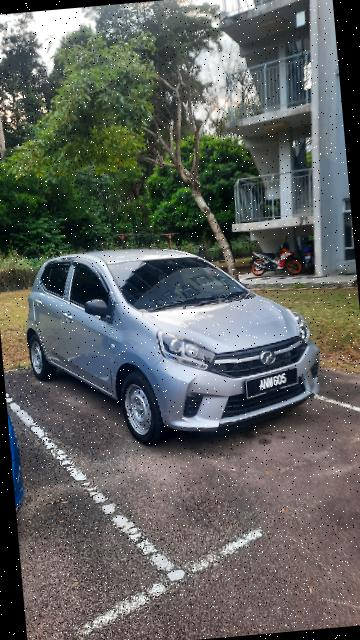License_Plate: (237, 365, 302, 402)
car: (17, 229, 329, 458)
